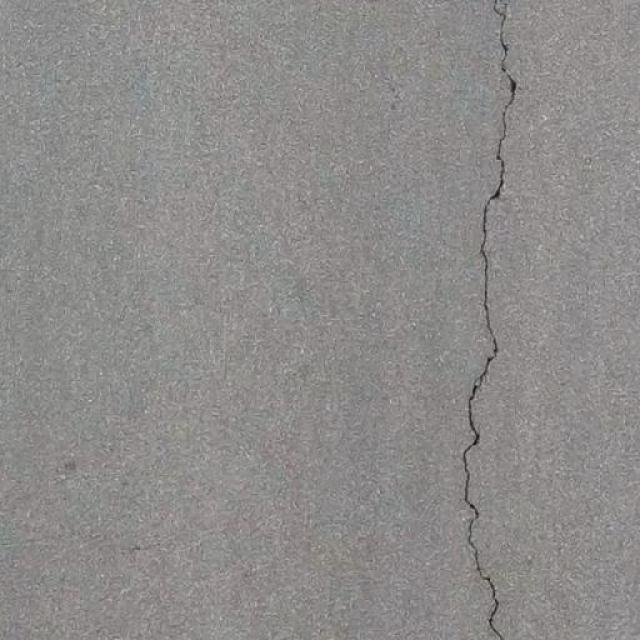Crack: (440, 0, 534, 640)
